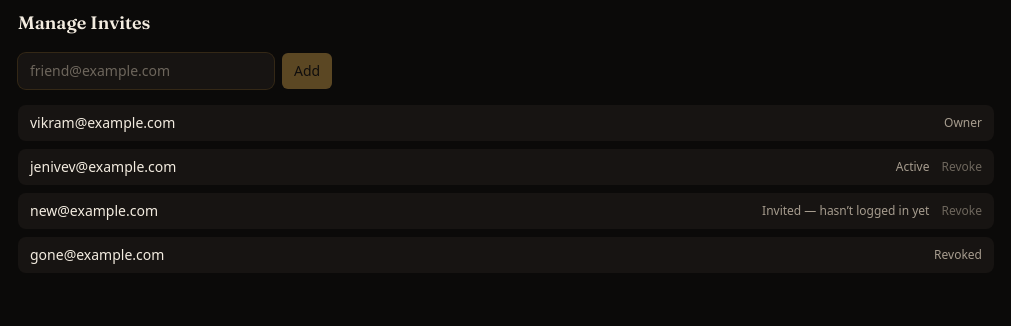
Scenario: ManageInvites › invites a new email and refreshes the list
The image size is (1011, 326).
Expected: the text "vikram@example.com" is shown, top-left (30, 113), bottom-right (175, 133)
Step 1. Type "brandnew@example.com" into the field named "Email to invite" → (146, 71), box top-left (18, 53), bottom-right (274, 89)
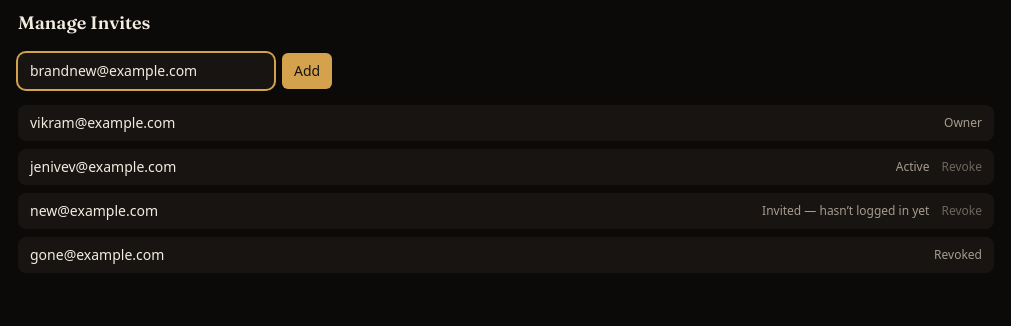
Step 2. Click the button "Add" → (307, 71), box top-left (282, 53), bottom-right (332, 89)
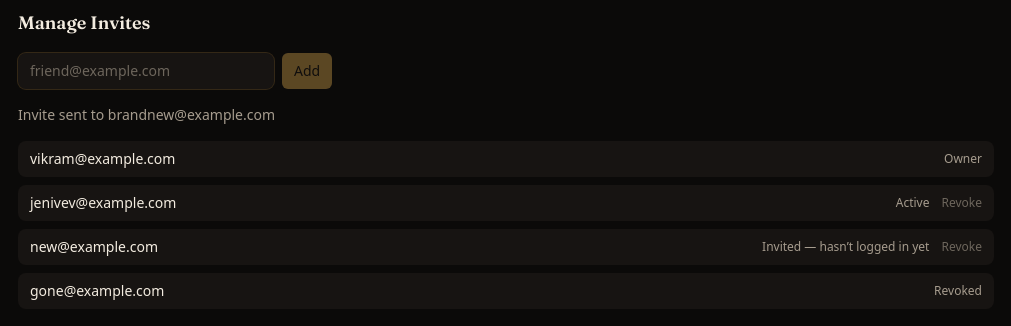
Now the text "Invite sent to brandnew@example.com" is shown, box top-left (18, 105), bottom-right (275, 124)
